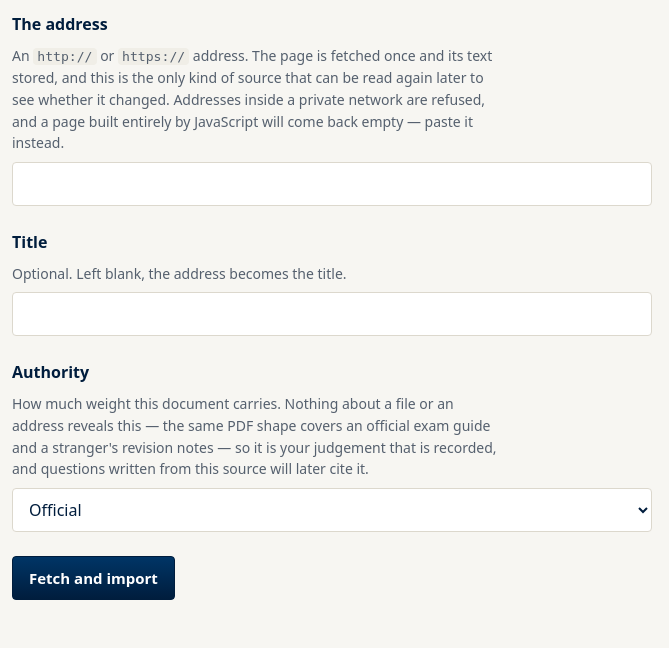
SourceImportForm › fetching an address › refuses a blank address on the address field
This screenshot has width=669, height=648.
Click the button "Fetch and import" at (93, 578), box [12, 556, 175, 600]
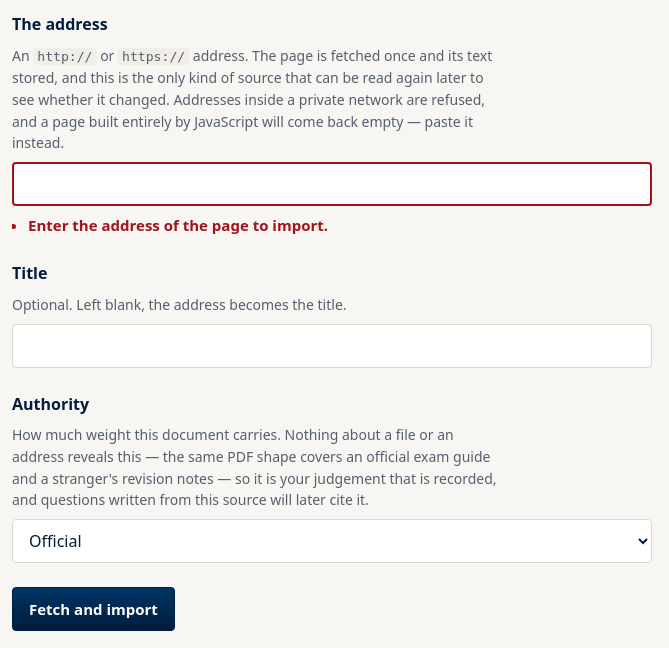
expect the list item "Enter the address of the page to import." is shown: met, box [28, 215, 328, 235]
